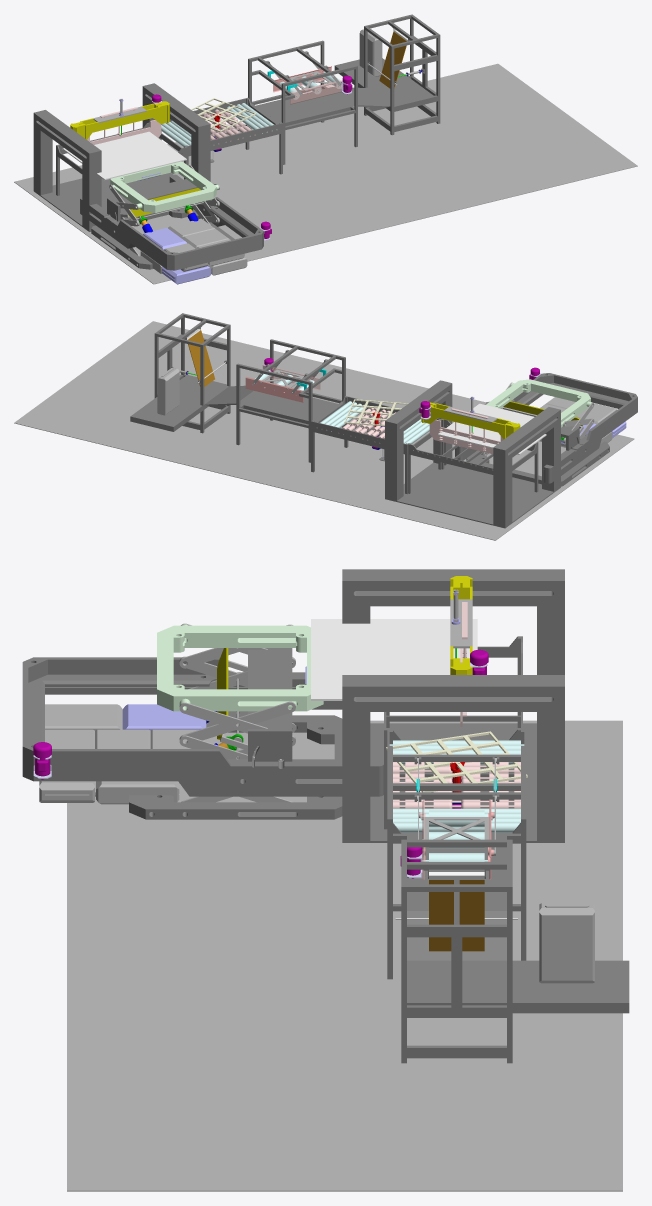
The model's file is assem_total.glb.
3 views of the same model, one above another, from view 1: azimuth 30°, elevation 25°; view 2: azimuth 150°, elevation 25°; view 3: azimuth 270°, elevation 25° (orthographic). The views are drawn at different scales.
Visible parts, largest first — view 1: Baste_Total-1, Herradura-1, Banda subida-1, Arco-1, Base_Paleta-1, Base_aplanadora-1, Placa_mov-1, Base Tijeras - Copy-1, Arco-2, Base_MQ4-1, Roll_Table-1, Cut-1 (+10 smaller); view 2: Baste_Total-1, Base_MQ4-1, Banda subida-1, Herradura-1, Arco-1, Arco-2, Base_Paleta-1, Base_aplanadora-1, Roll_Table-1, Roll_Table_2-1, Base Tijeras - Copy-1, Placa_mov-1 (+8 smaller); view 3: Baste_Total-1, Herradura-1, Arco-2, Banda subida-1, Base_Paleta-1, Arco-1, Placa_mov-1, Bag-1 (×3), Base Tijeras - Copy-1, Base_aplanadora-1, Base Tijeras-1, Base_MQ4-1 (+12 smaller).
Part boxes in pixels (x1,y1,x2,y2): Baste_Total-1: [14, 63, 637, 284]; Herradura-1: [80, 174, 263, 270]; Banda subida-1: [255, 58, 433, 126]; Arco-1: [33, 110, 101, 231]; Base_Paleta-1: [364, 14, 440, 135]; Base_aplanadora-1: [248, 40, 357, 164]; Placa_mov-1: [62, 131, 186, 179]; Base Tijeras - Copy-1: [110, 161, 218, 212]; Arco-2: [142, 83, 210, 181]; Base_MQ4-1: [40, 172, 172, 226]; Roll_Table-1: [161, 97, 282, 174]; Cut-1: [70, 101, 170, 139]; Baste_Total-1: [14, 321, 634, 540]; Base_MQ4-1: [397, 462, 553, 525]; Banda subida-1: [130, 376, 337, 431]; Herradura-1: [455, 373, 637, 483]; Arco-1: [493, 407, 560, 528]; Arco-2: [385, 380, 452, 501]; Base_Paleta-1: [154, 313, 230, 433]; Base_aplanadora-1: [236, 339, 345, 462]; Roll_Table-1: [311, 396, 441, 494]; Roll_Table_2-1: [408, 419, 538, 493]; Base Tijeras - Copy-1: [486, 379, 591, 427]; Placa_mov-1: [438, 403, 561, 454]; Baste_Total-1: [67, 720, 622, 1191]; Herradura-1: [22, 648, 383, 796]; Arco-2: [342, 675, 564, 842]; Banda subida-1: [407, 836, 629, 1013]; Base_Paleta-1: [395, 839, 517, 1063]; Arco-1: [342, 569, 564, 674]; Placa_mov-1: [311, 619, 477, 700]; Bag-1 (×3): [39, 704, 594, 983]; Base Tijeras - Copy-1: [157, 624, 323, 711]; Base_aplanadora-1: [387, 746, 526, 979]; Base Tijeras-1: [129, 715, 342, 819]; Base_MQ4-1: [370, 723, 536, 842].
Bounding box in the file's own units: 10 × 1.93 × 5.45.
